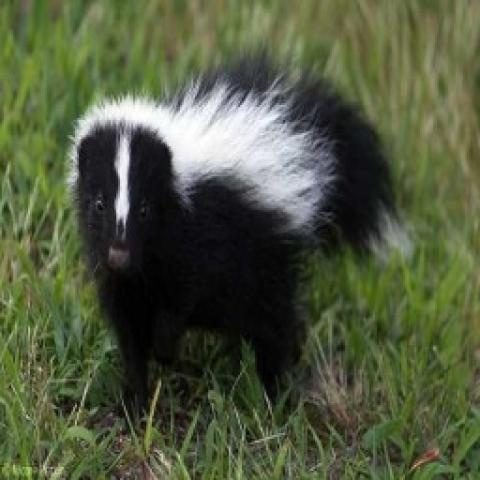small_animal: (60, 43, 416, 422)
